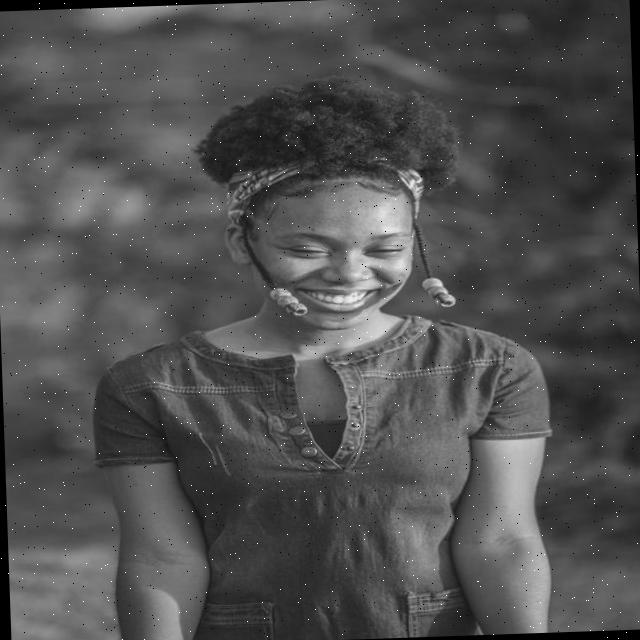Happiness: (242, 168, 420, 334)
